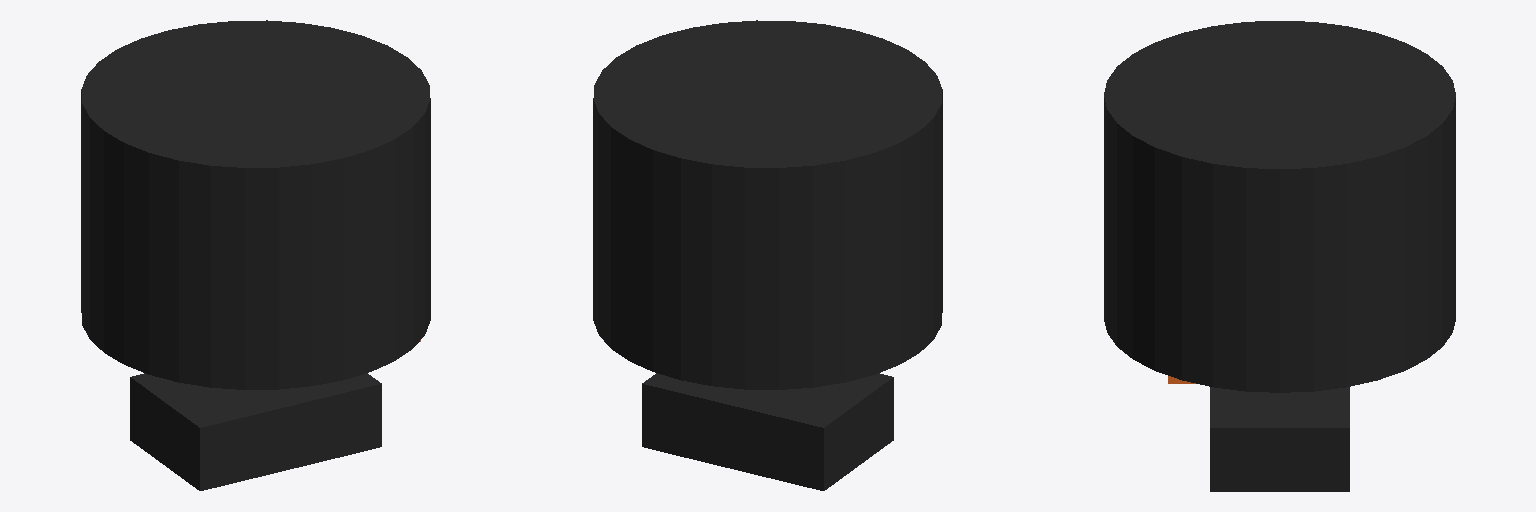
URDF robot description (red-rover):
<robot name="red-rover">
    <material name="orange"><color rgba="1.0 0.5 0.2 1"/></material>
    <material name="gray"><color rgba="0.2 0.2 0.2 1"/></material>

    <!-- Base: center of the bottom of the lidar mounting plate. -->
    <link name="base_link"/>

    <!-- Ouster internal IMU (unused) -->
    <link name="os_imu">
        <visual>
            <origin xyz="0.0 0.0 0.0" />
            <geometry>
                <box size="0.06 0.04 0.02" />
            </geometry>
            <material name="orange" />
        </visual>
    </link>

    <!-- Ouster Lidar -->
    <link name="os_lidar">
        <visual>
            <origin xyz="0.0 0.0 0.0" />
            <geometry>
                <cylinder length="0.07" radius="0.05" />
            </geometry>
            <material name="gray" />
        </visual>
    </link>

    <!-- External IMU -->
    <link name="imu_link">
        <visual>
            <origin xyz="0.0 0.0 0.0" />
            <geometry>
                <box size="0.06 0.04 0.02" />
            </geometry>
            <material name="gray" />
        </visual>
    </link>

    <!-- Ouster Sensor -->
    <link name="os_sensor"/>

    <!-- Radar Sensor -->
    <link name="radar"/>

    <!-- Ouster mounting plate: 22mm z-thickness. -->
    <joint name="sensor_link_joint" type="fixed">
        <parent link="base_link" />
        <child link="os_sensor" />
        <origin xyz="0.0 0 0.022" rpy="0 0 0" />
    </joint>

    <!-- imu_to_sensor_transform -->
    <joint name="os_imu_link_joint" type="fixed">
        <parent link="os_sensor" />
        <child link="os_imu" />
        <origin xyz="0.006253 -0.011775 0.007645" rpy="0 0 0" />
    </joint>

    <!-- lidar_to_sensor_transform -->
    <joint name="os_link_joint" type="fixed">
        <parent link="os_sensor" />
        <child link="os_lidar" />
        <origin xyz="0.0 0.0 0.03618" rpy="0 0 3.14159" />
    </joint>

    <!-- IMU is 7mm underneath the lidar mounting plate.-->
    <joint name="imu_link_joint" type="fixed">
        <parent link="base_link" />
        <child link="imu_link" />
        <origin xyz="0.0 0.0 -0.007" rpy="0 0 0" />
    </joint>

    <!-- Radar is 60mm in front and 110mm below the center. -->
    <joint name="radar_link_joint" type="fixed">
        <parent link="base_link" />
        <child link="radar" />
        <origin xyz="0.006 0 -0.011" rpy="0 0 0"/>
    </joint>

</robot>

--- Render facts (derived) ---
3 views of the same robot in one strip: view 1: azimuth 30°, elevation 25°; view 2: azimuth 150°, elevation 25°; view 3: azimuth 270°, elevation 25° (orthographic).
Robot: red-rover — 6 links, 5 joints (5 fixed); root link base_link; default pose: all joints at 0.
Visible links, largest first — view 1: os_lidar, imu_link; view 2: os_lidar, imu_link; view 3: os_lidar, imu_link.
Boxes of the visible links, bbox=[...] form: os_lidar: bbox=[81, 20, 430, 389]; imu_link: bbox=[130, 373, 381, 490]; os_lidar: bbox=[593, 20, 942, 389]; imu_link: bbox=[642, 373, 893, 490]; os_lidar: bbox=[1104, 21, 1455, 392]; imu_link: bbox=[1210, 387, 1349, 491].
Bounding box of the posed robot: 0.1 × 0.1 × 0.1102 m (x, y, z).
Geometry: primitives only (box / cylinder / sphere), no mesh files.